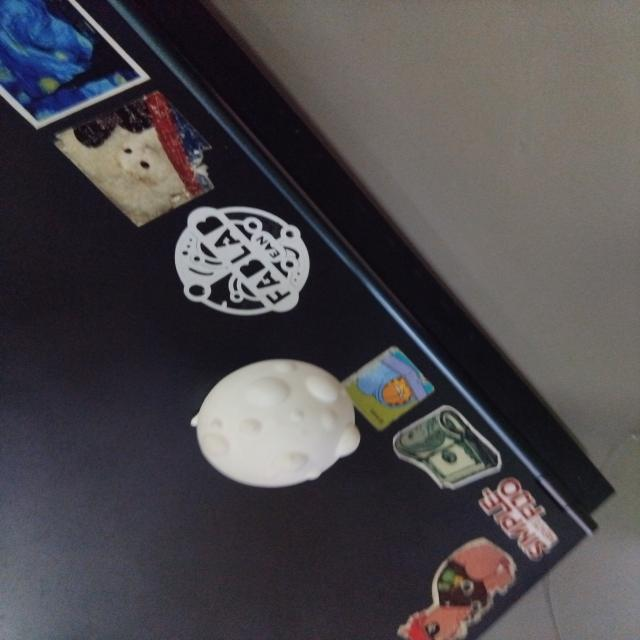Hongo: (176, 343, 387, 493)
